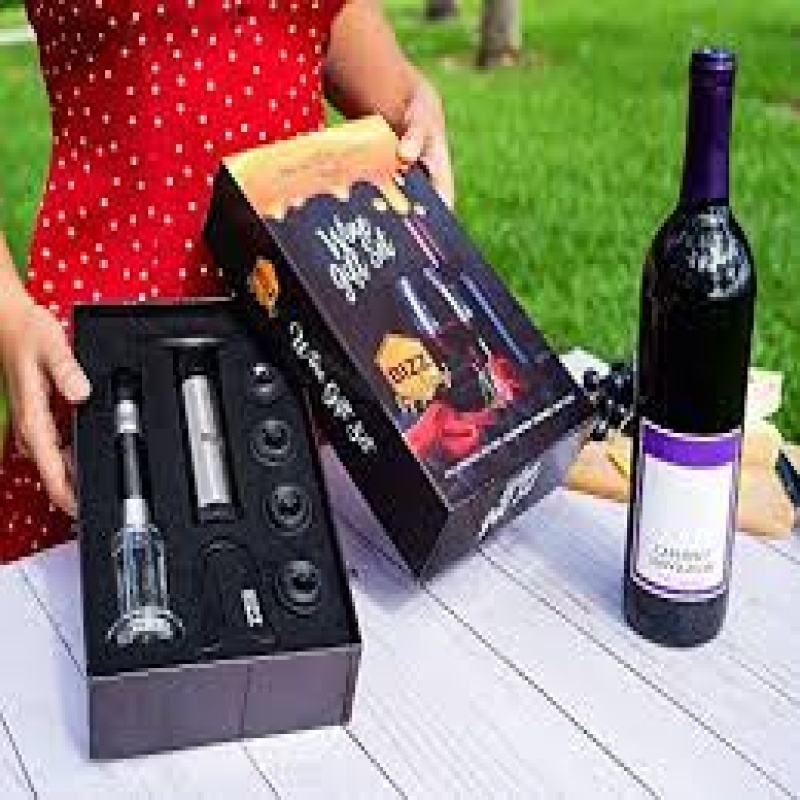wine: (639, 47, 737, 648)
